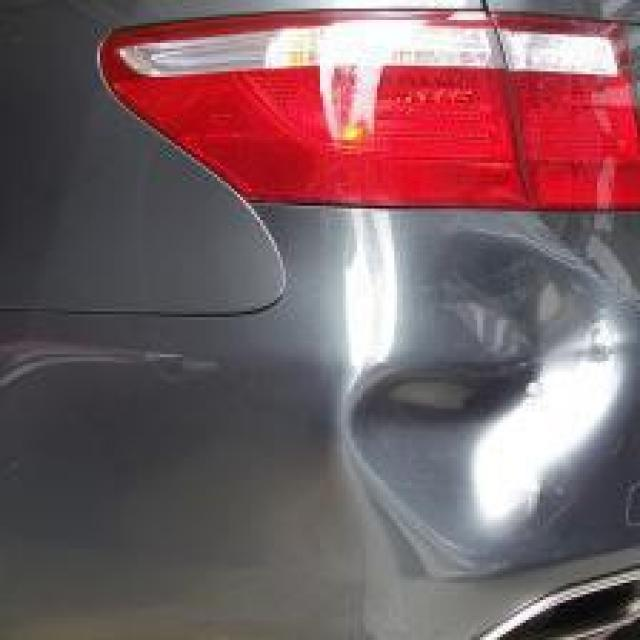damaged: (337, 225, 637, 578)
